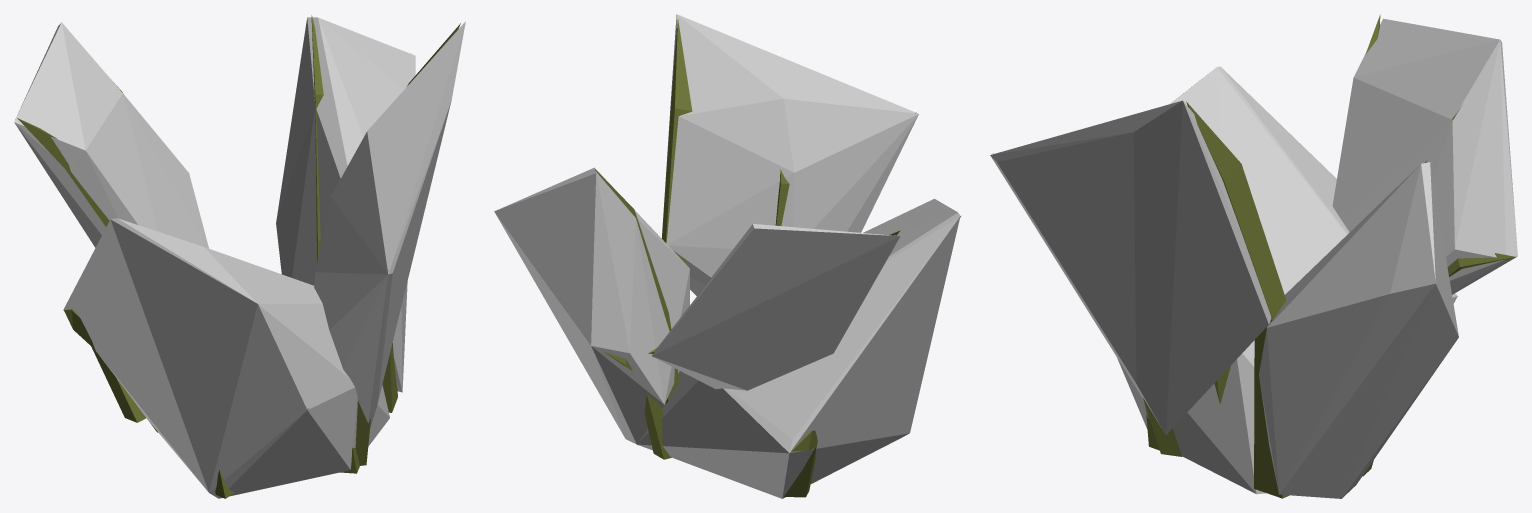
The model's file is SM_Env_Grass_01.fbx.
3 views of the same model, side by side, from view 1: azimuth 30°, elevation 25°; view 2: azimuth 150°, elevation 25°; view 3: azimuth 270°, elevation 25° (orthographic). The views are drawn at different scales.
Visible parts, largest first — view 1: SM_Env_Grass_01_ConvexHulls, SM_Env_Grass_01; view 2: SM_Env_Grass_01_ConvexHulls, SM_Env_Grass_01; view 3: SM_Env_Grass_01_ConvexHulls, SM_Env_Grass_01.
Part boxes in pixels (box(x1,y1,x2,y2)): SM_Env_Grass_01_ConvexHulls: box(14, 17, 465, 498); SM_Env_Grass_01: box(17, 15, 460, 498); SM_Env_Grass_01_ConvexHulls: box(494, 14, 960, 498); SM_Env_Grass_01: box(498, 19, 961, 497); SM_Env_Grass_01_ConvexHulls: box(990, 18, 1517, 498); SM_Env_Grass_01: box(993, 14, 1516, 498).
Size of the model in its own units: 76.07 by 81.64 by 70.41.
2 materials, 1 textured.
